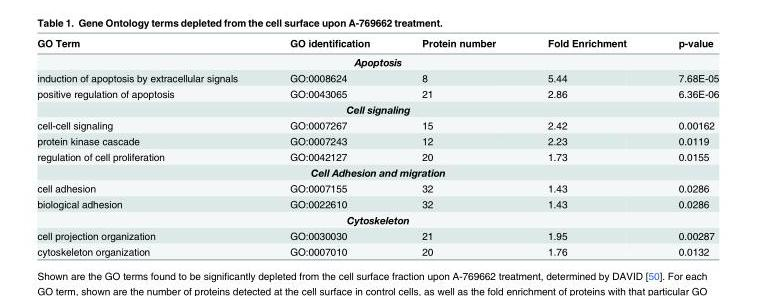table: (36, 36, 718, 256)
table column: (36, 36, 263, 256), (263, 36, 395, 256), (521, 36, 651, 256), (395, 36, 521, 256), (651, 36, 718, 256)
table column header: (36, 36, 718, 52)
table projected row header: (36, 52, 718, 69), (36, 101, 718, 117), (36, 164, 718, 180), (36, 211, 718, 227)
table row: (36, 52, 718, 69), (36, 36, 718, 52), (36, 69, 718, 85), (36, 85, 718, 101), (36, 101, 718, 117), (36, 132, 718, 148), (36, 148, 718, 164), (36, 164, 718, 180), (36, 195, 718, 211), (36, 211, 718, 227), (36, 227, 718, 243), (36, 117, 718, 132), (36, 180, 718, 195), (36, 243, 718, 256)
